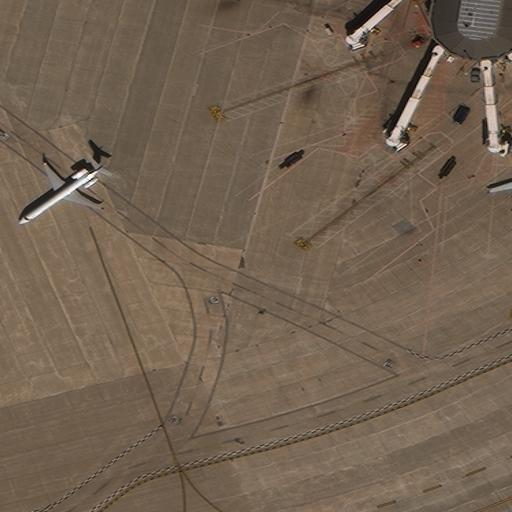Medium Civil Transport: (18, 162, 102, 224)
